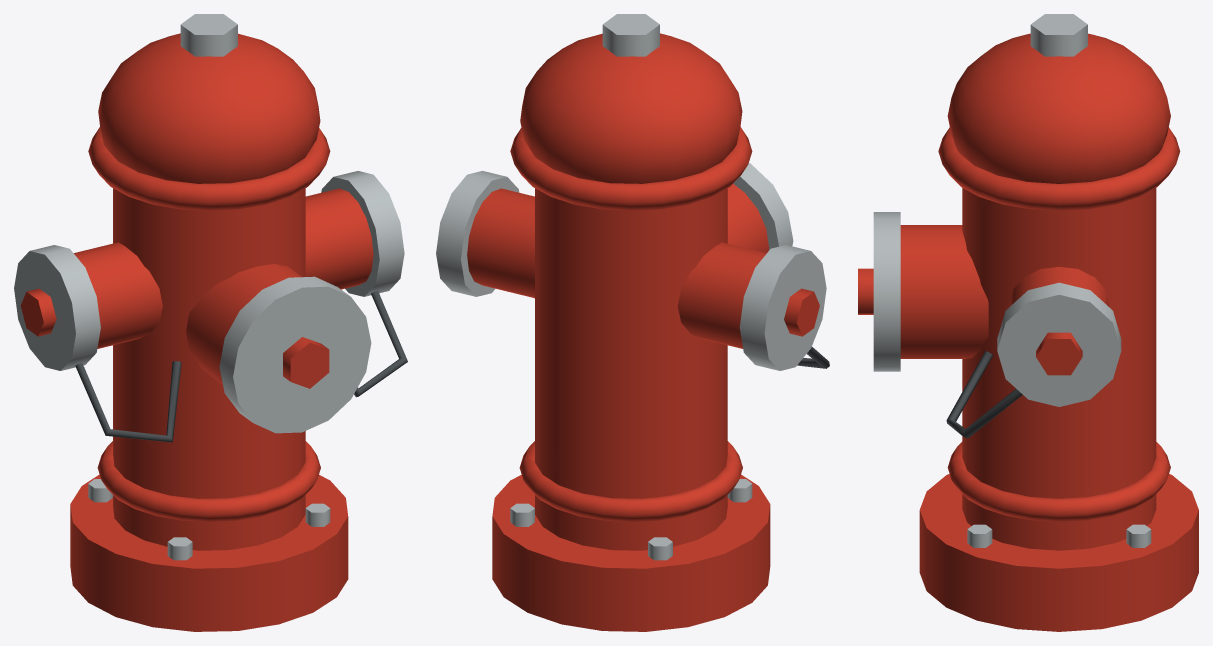
The model's file is street_fire_hydrant.glb.
The picture shows the model from 3 angles, left to right: view 1: azimuth 30°, elevation 25°; view 2: azimuth 150°, elevation 25°; view 3: azimuth 270°, elevation 25°; orthographic projection.
Visible parts, largest first — view 1: Main barrel, Domed bonnet, Base flange, Front pumper cap, Side cap, Top collar, Lower casting ridge, Side nozzle, Side nozzle.001, Front pumper outlet, Side cap.001, Top operating nut (+6 smaller); view 2: Main barrel, Domed bonnet, Base flange, Side cap, Top collar, Side nozzle.001, Lower casting ridge, Side nozzle, Side cap.001, Front pumper cap, Top operating nut, Front pumper outlet (+1 smaller); view 3: Main barrel, Domed bonnet, Base flange, Front pumper outlet, Side cap.001, Top collar, Lower casting ridge, Front pumper cap, Top operating nut, Side nozzle.001, Side cap nut.001, Cap retaining chain.001 (+3 smaller).
Part boxes in pixels (x1=…): Main barrel: x1=113, y1=188, x2=305, y2=550; Domed bonnet: x1=98, y1=33, x2=320, y2=183; Base flange: x1=70, y1=474, x2=348, y2=631; Front pumper cap: x1=219, y1=276, x2=371, y2=433; Side cap: x1=14, y1=245, x2=100, y2=370; Top collar: x1=88, y1=127, x2=330, y2=210; Lower casting ridge: x1=97, y1=441, x2=320, y2=521; Side nozzle: x1=74, y1=242, x2=162, y2=348; Side nozzle.001: x1=305, y1=188, x2=373, y2=289; Front pumper outlet: x1=186, y1=263, x2=301, y2=384; Side cap.001: x1=321, y1=171, x2=404, y2=296; Top operating nut: x1=180, y1=14, x2=237, y2=56; Main barrel: x1=535, y1=188, x2=727, y2=550; Domed bonnet: x1=520, y1=33, x2=742, y2=183; Base flange: x1=492, y1=474, x2=770, y2=631; Side cap: x1=739, y1=245, x2=826, y2=370; Top collar: x1=510, y1=127, x2=752, y2=210; Side nozzle.001: x1=467, y1=188, x2=534, y2=298; Lower casting ridge: x1=519, y1=441, x2=742, y2=521; Side nozzle: x1=677, y1=242, x2=766, y2=348; Side cap.001: x1=436, y1=171, x2=519, y2=296; Front pumper cap: x1=733, y1=163, x2=793, y2=250; Top operating nut: x1=602, y1=14, x2=659, y2=56; Front pumper outlet: x1=727, y1=184, x2=768, y2=252; Main barrel: x1=962, y1=188, x2=1156, y2=550; Domed bonnet: x1=947, y1=33, x2=1170, y2=183; Base flange: x1=919, y1=474, x2=1198, y2=631; Front pumper outlet: x1=900, y1=225, x2=988, y2=358; Side cap.001: x1=997, y1=282, x2=1121, y2=406; Top collar: x1=938, y1=127, x2=1180, y2=210; Lower casting ridge: x1=947, y1=442, x2=1170, y2=521; Front pumper cap: x1=873, y1=212, x2=900, y2=371; Top operating nut: x1=1030, y1=14, x2=1087, y2=56; Side nozzle.001: x1=1009, y1=266, x2=1108, y2=306; Side cap nut.001: x1=1036, y1=332, x2=1082, y2=375; Cap retaining chain.001: x1=946, y1=350, x2=1022, y2=438.
Bounding box in the file's own units: 0.527 × 0.7805 × 0.4395.
